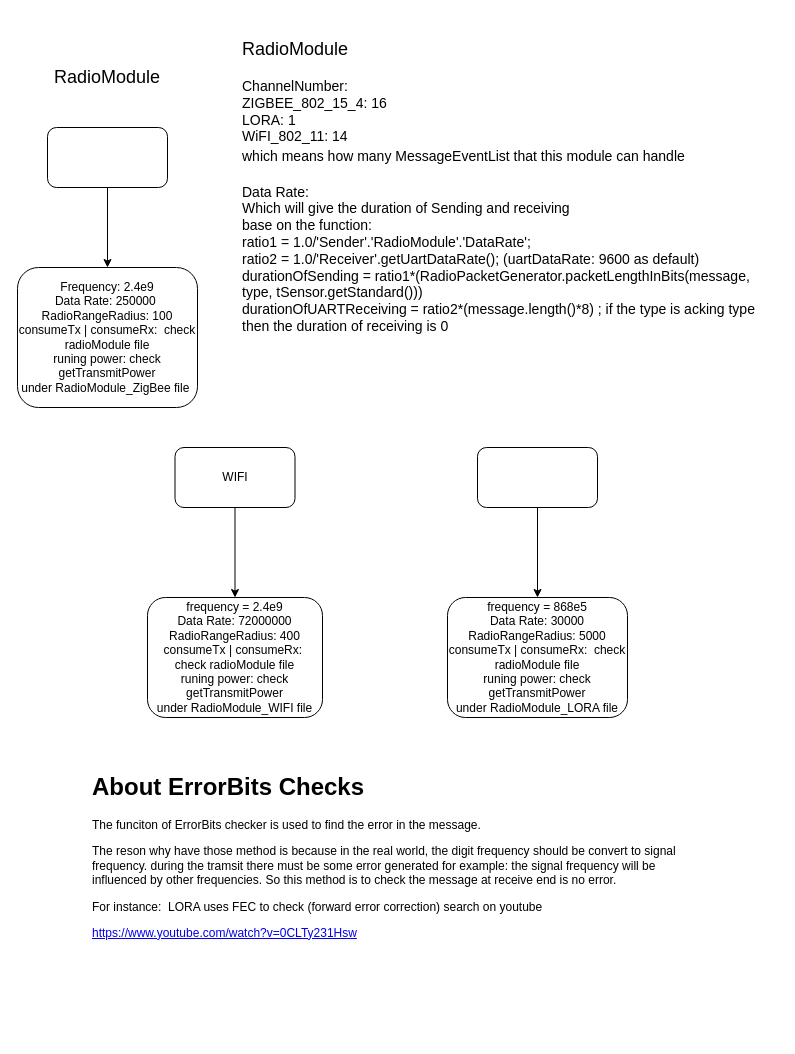
The diagram is 795 pixels wide and 1054 high, and some of its shapes have lost their labels. Each missing label, with the box of its shape:
LORA: (476, 446, 598, 508)
ZIGBEE_802_15_4: (46, 126, 168, 188)
